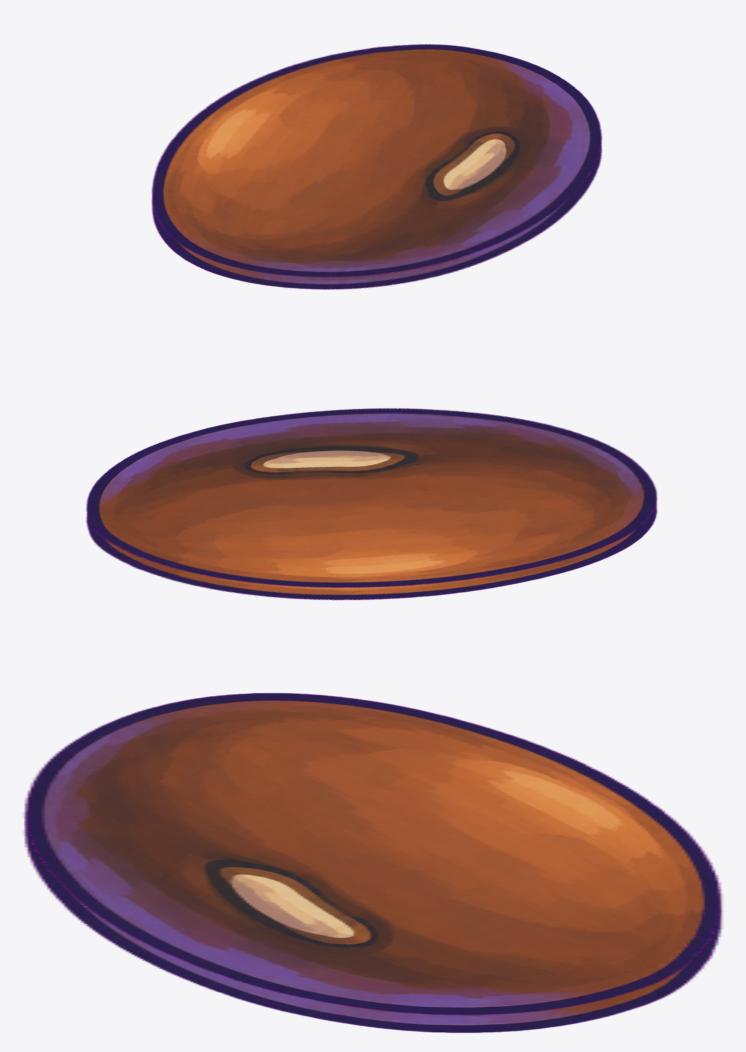
File: seed.glb
3 renders of one model, top to bottom at view 1: azimuth 30°, elevation 25°; view 2: azimuth 150°, elevation 25°; view 3: azimuth 270°, elevation 25°, orthographic. The views are drawn at different scales.
Parts seen in each view (by area): view 1: seed; view 2: seed; view 3: seed.
Part boxes in pixels (x1,y1,x2,y2): seed: (151,44,602,289); seed: (86,408,657,600); seed: (24,693,722,1032).
Bounding box in the file's own units: 2 × 0.05 × 1.83.
Materials: 1 (1 with a texture image).
